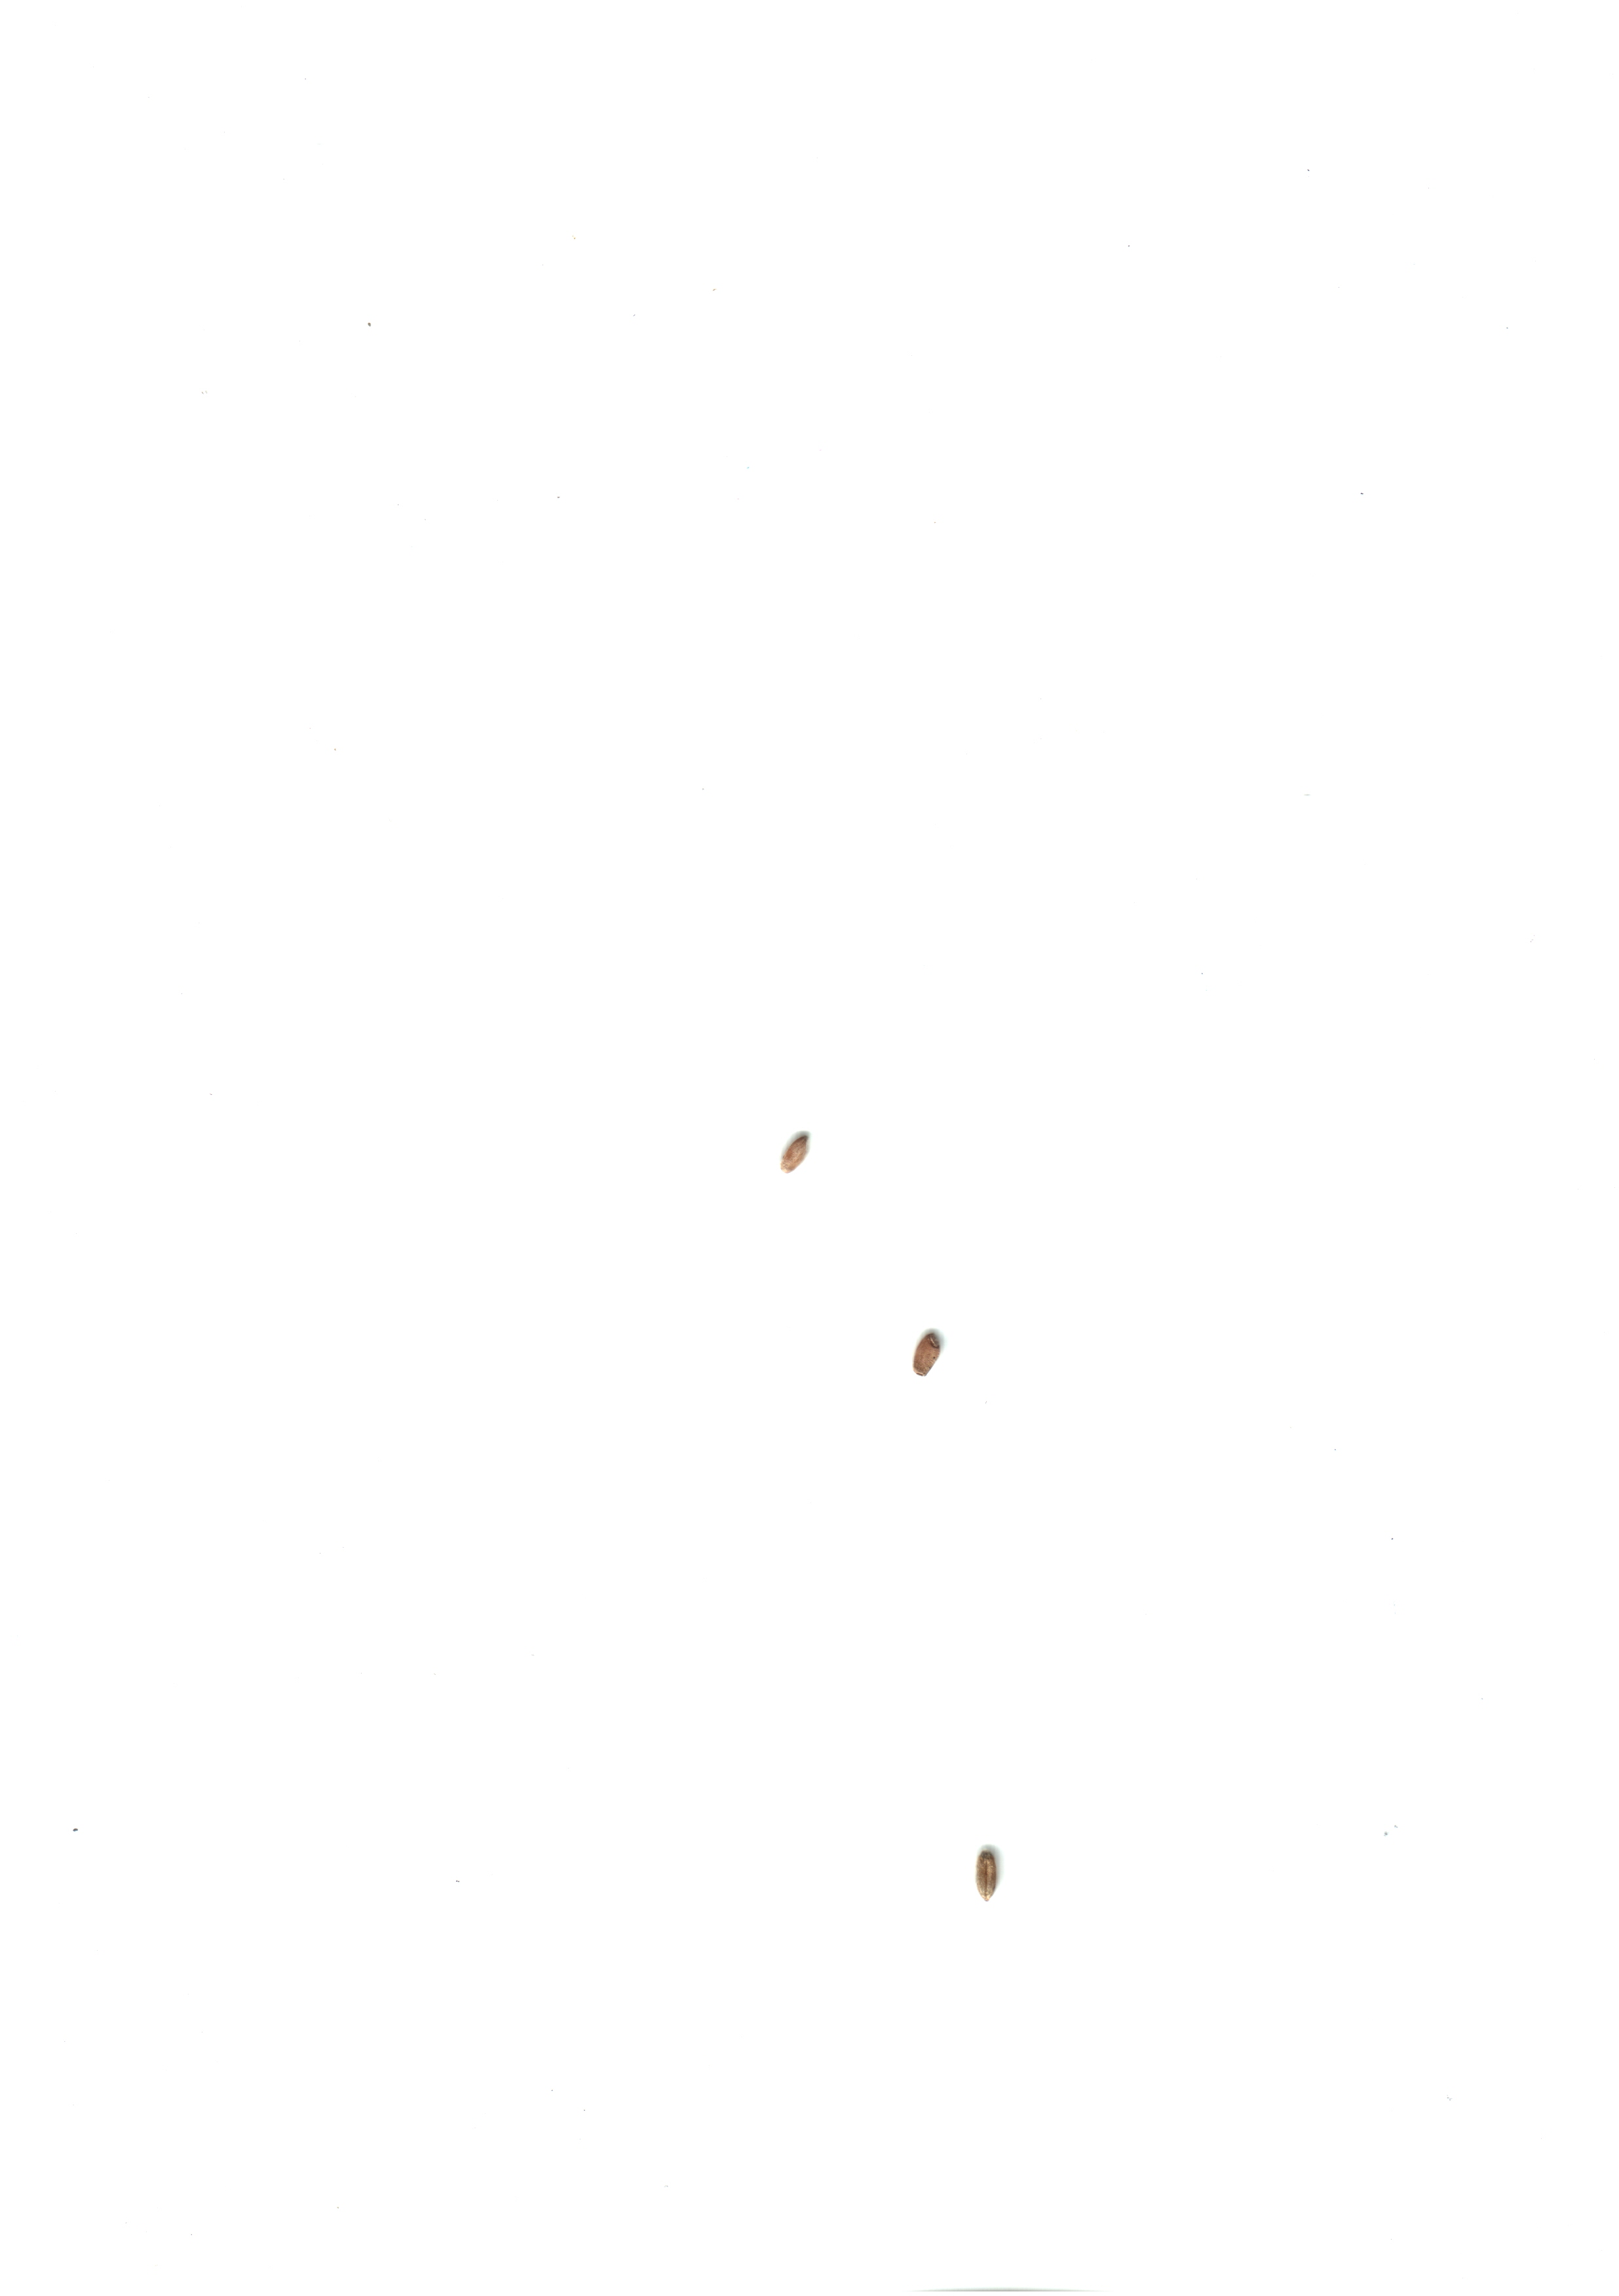grains_2_5mm: (753, 1104, 836, 1194), (892, 1307, 972, 1397), (951, 1826, 1032, 1914)
